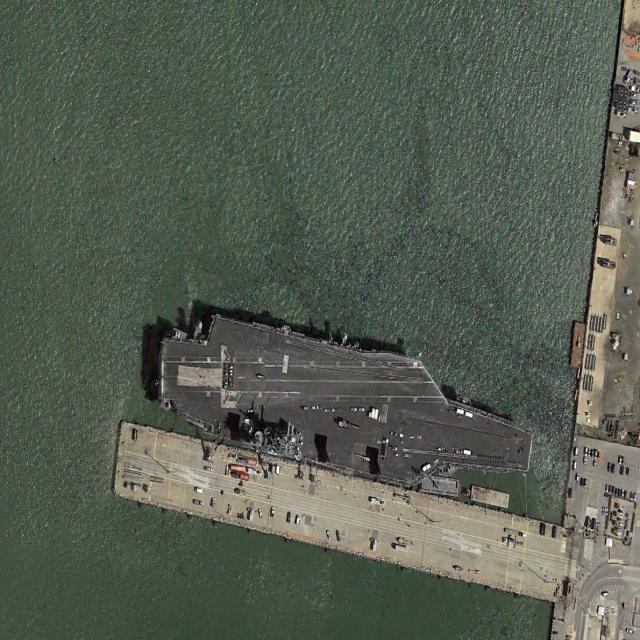Aircraft Carrier: (150, 297, 539, 514)
